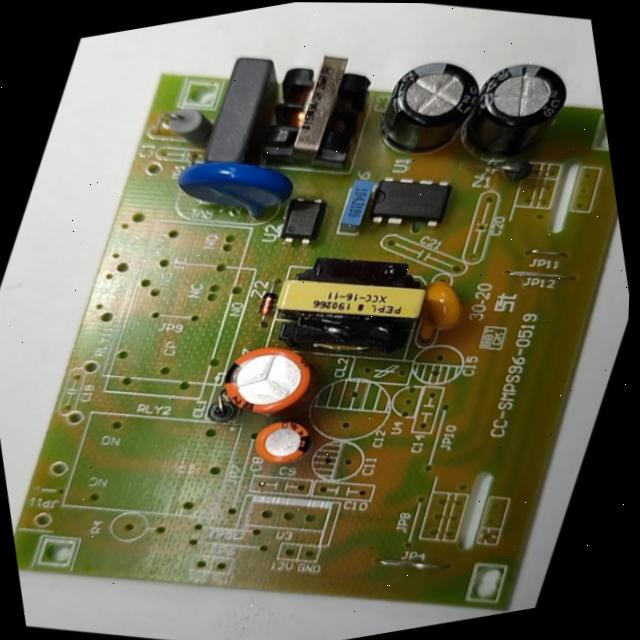Cap1: (201, 328, 330, 434)
Cap2: (237, 405, 330, 480)
Cap3: (356, 42, 505, 171)
Cap4: (438, 43, 595, 185)
MOSFET: (352, 159, 466, 247)
Mov: (152, 139, 309, 248)
Resistor: (147, 95, 228, 162)
Transformer: (243, 226, 457, 386), (238, 33, 398, 179)
